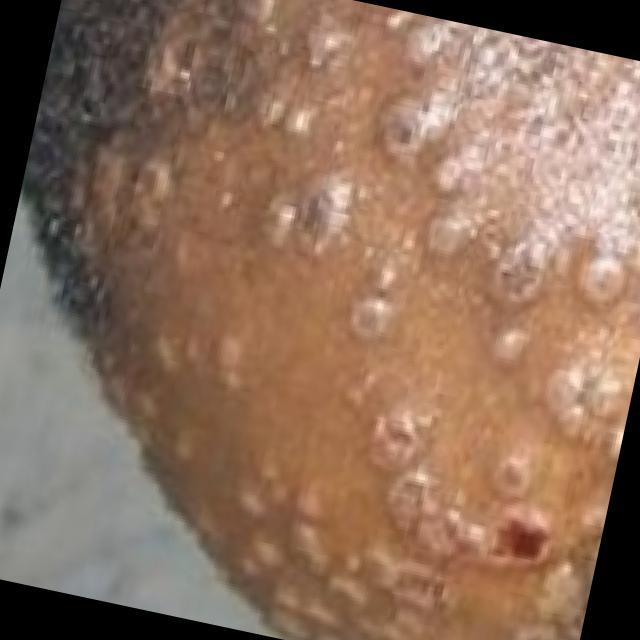Eczema: (68, 7, 618, 611)
